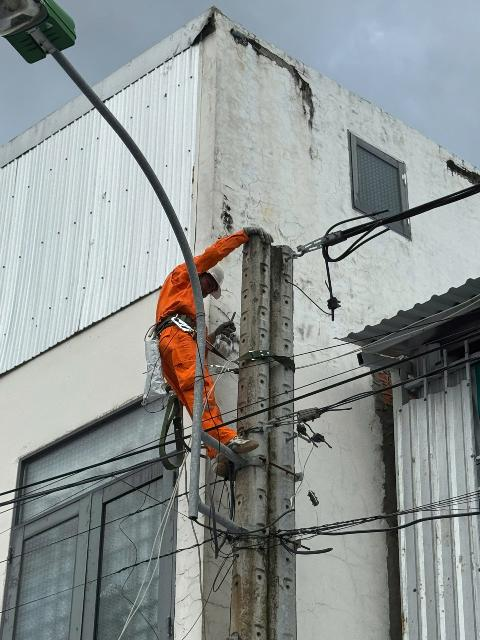gloves: (210, 318, 247, 356), (242, 222, 277, 252)
helmet: (192, 249, 237, 303)
shoes: (199, 429, 269, 457), (204, 453, 252, 484)
